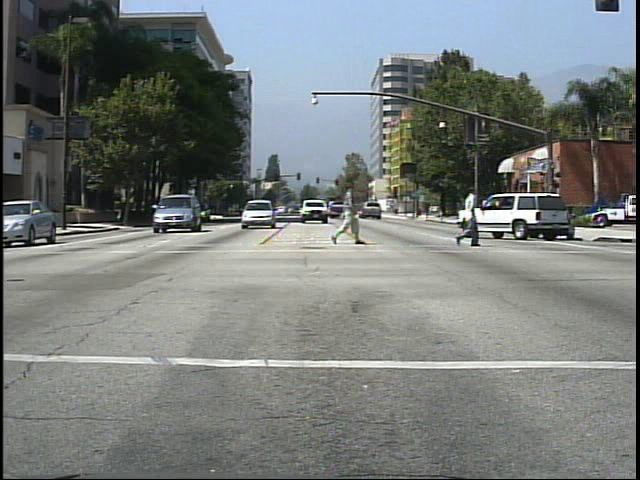person: (327, 176, 364, 250), (453, 178, 489, 254)
